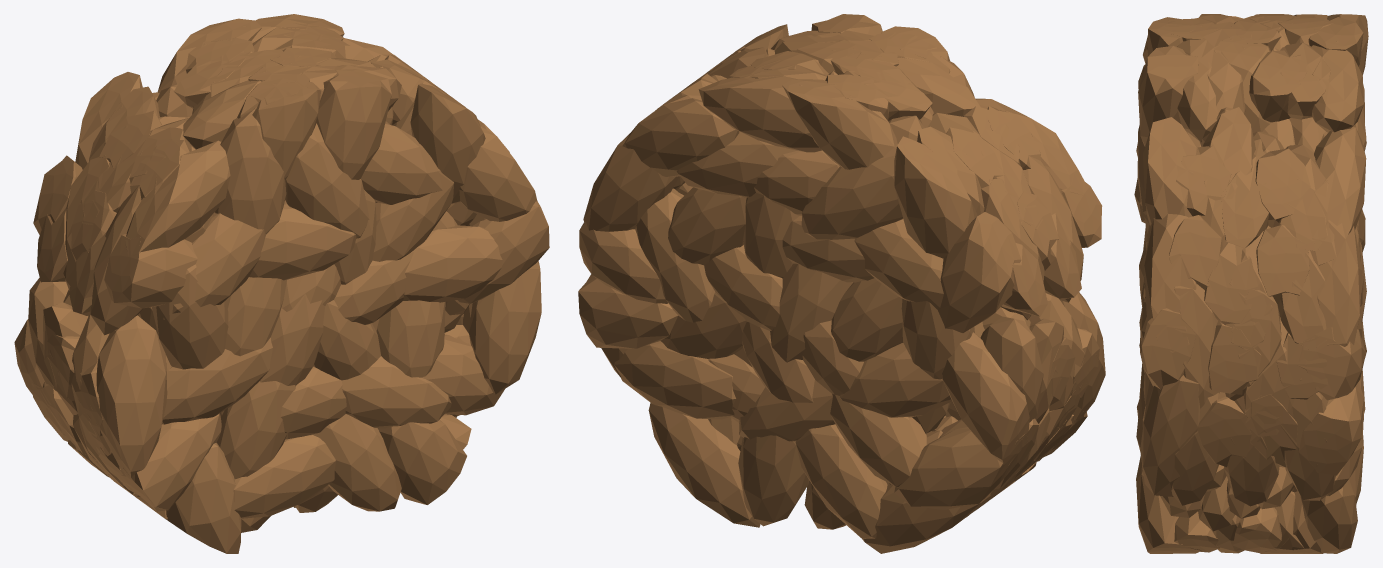
The model's file is jar_pile_25.glb.
The picture shows the model from 3 angles, left to right: view 1: azimuth 30°, elevation 25°; view 2: azimuth 150°, elevation 25°; view 3: azimuth 270°, elevation 25°; orthographic projection. The views are drawn at different scales.
Parts seen in each view (by area): view 1: world; view 2: world; view 3: world.
Part boxes in pixels (<box>): world: <box>14,14,549,553</box>; world: <box>578,14,1105,553</box>; world: <box>1134,14,1368,553</box>.
Size of the model in its own units: 0.0692 by 0.0683 by 0.03.
